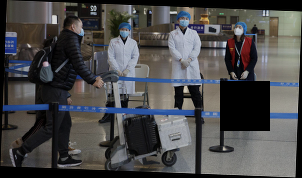with_mask: (178, 16, 190, 28), (76, 23, 85, 37), (233, 25, 244, 36), (119, 28, 130, 39)
